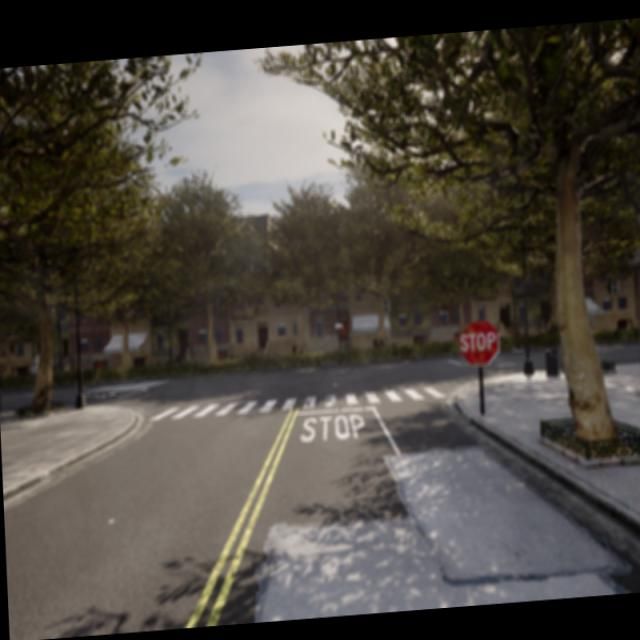stop sign: (456, 317, 502, 368), (460, 330, 497, 353)
